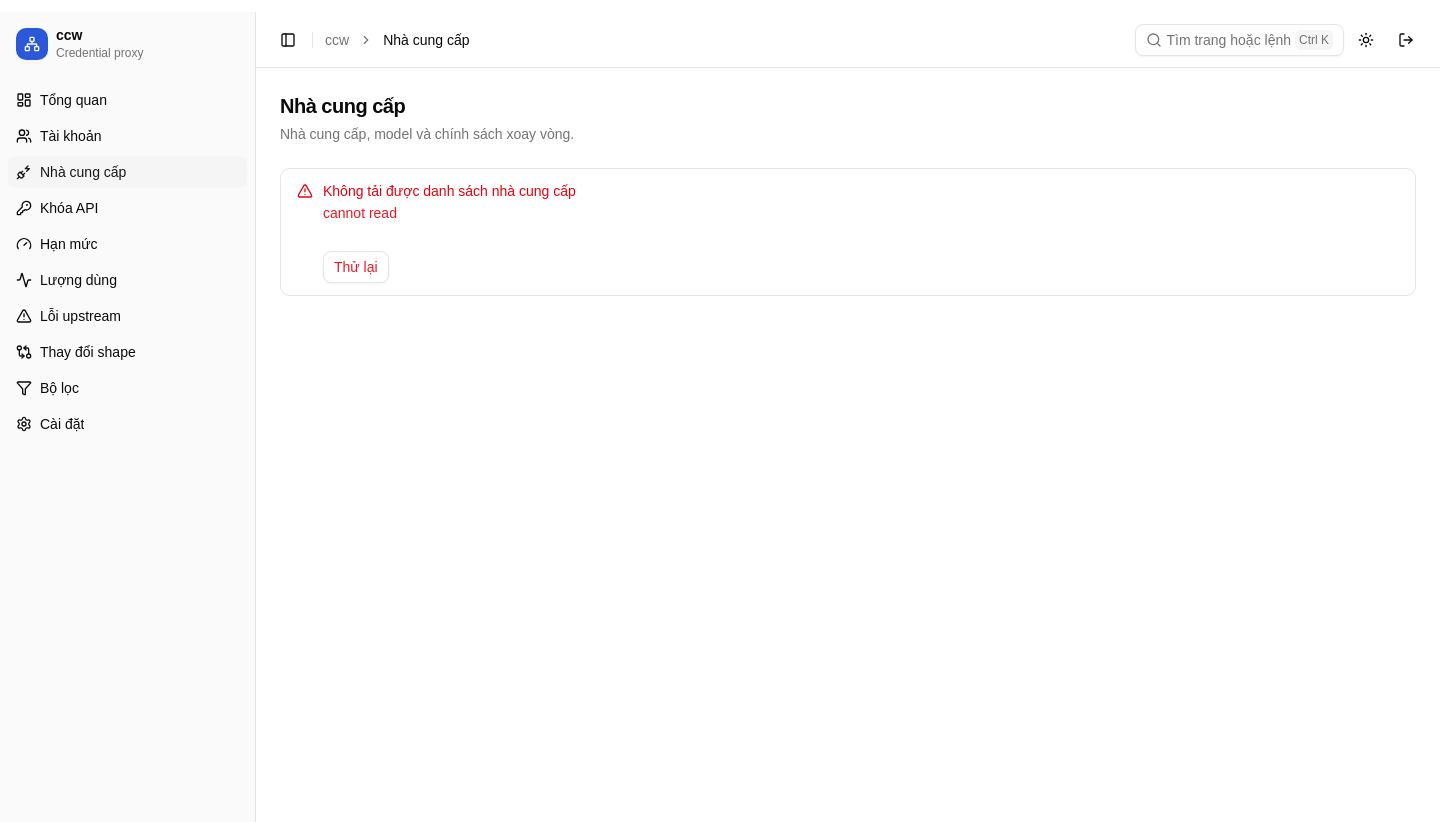
Test: providers list › shows an error with a retry button when the list fails
Click the button "Thử lại".
click(356, 267)  # box [323, 251, 389, 283]
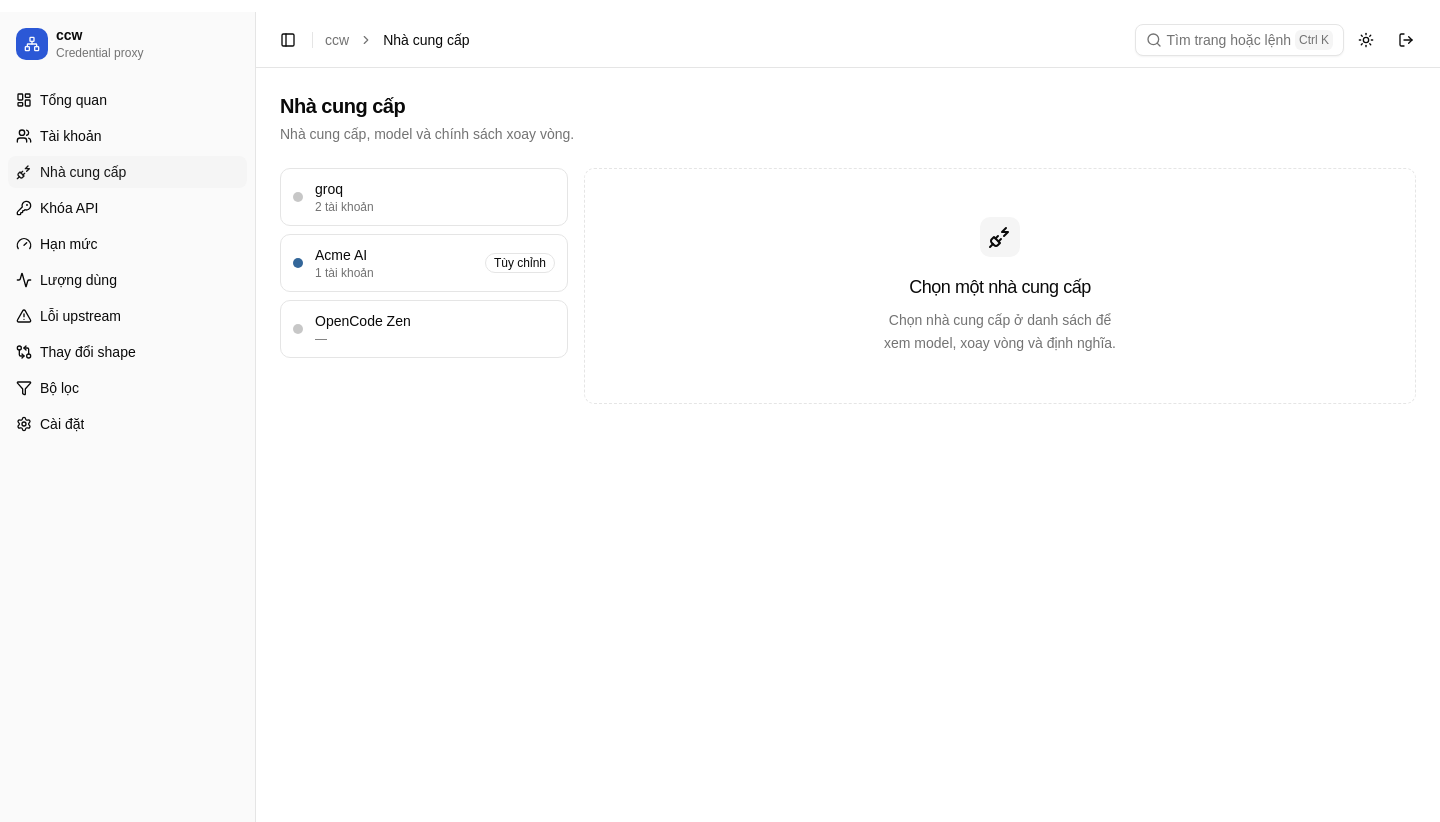
expect the button "groq 2 tài khoản" is shown: met, box [280, 168, 568, 226]
